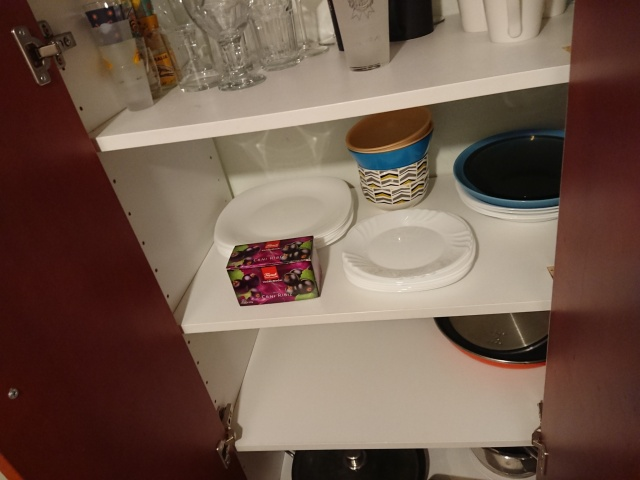Franck Black Currant Tea 60g: (223, 233, 324, 308)
